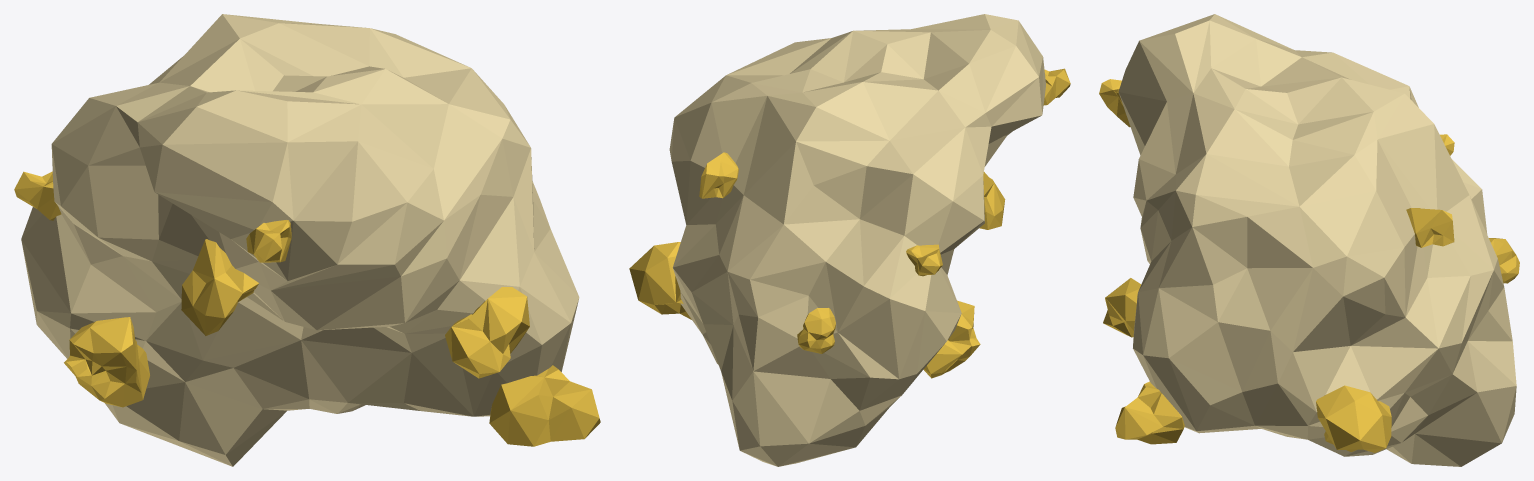
Rendered from MetalOre (16).fbx.
The picture shows the model from 3 angles, left to right: view 1: azimuth 30°, elevation 25°; view 2: azimuth 150°, elevation 25°; view 3: azimuth 270°, elevation 25°; orthographic projection. The views are drawn at different scales.
Visible parts, largest first — view 1: Asteroid371; view 2: Asteroid371; view 3: Asteroid371.
Boxes of the visible parts, bbox=[...] form: Asteroid371: bbox=[14, 14, 600, 466]; Asteroid371: bbox=[629, 14, 1070, 466]; Asteroid371: bbox=[1099, 14, 1519, 466].
Size of the model in its own units: 265 by 269 by 259.
